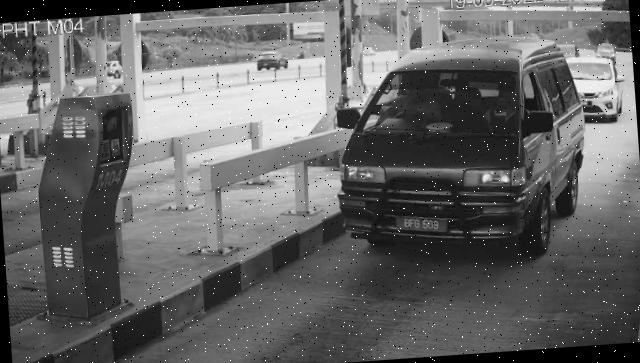License_Plate: (395, 211, 450, 238)
van: (328, 33, 595, 270)
